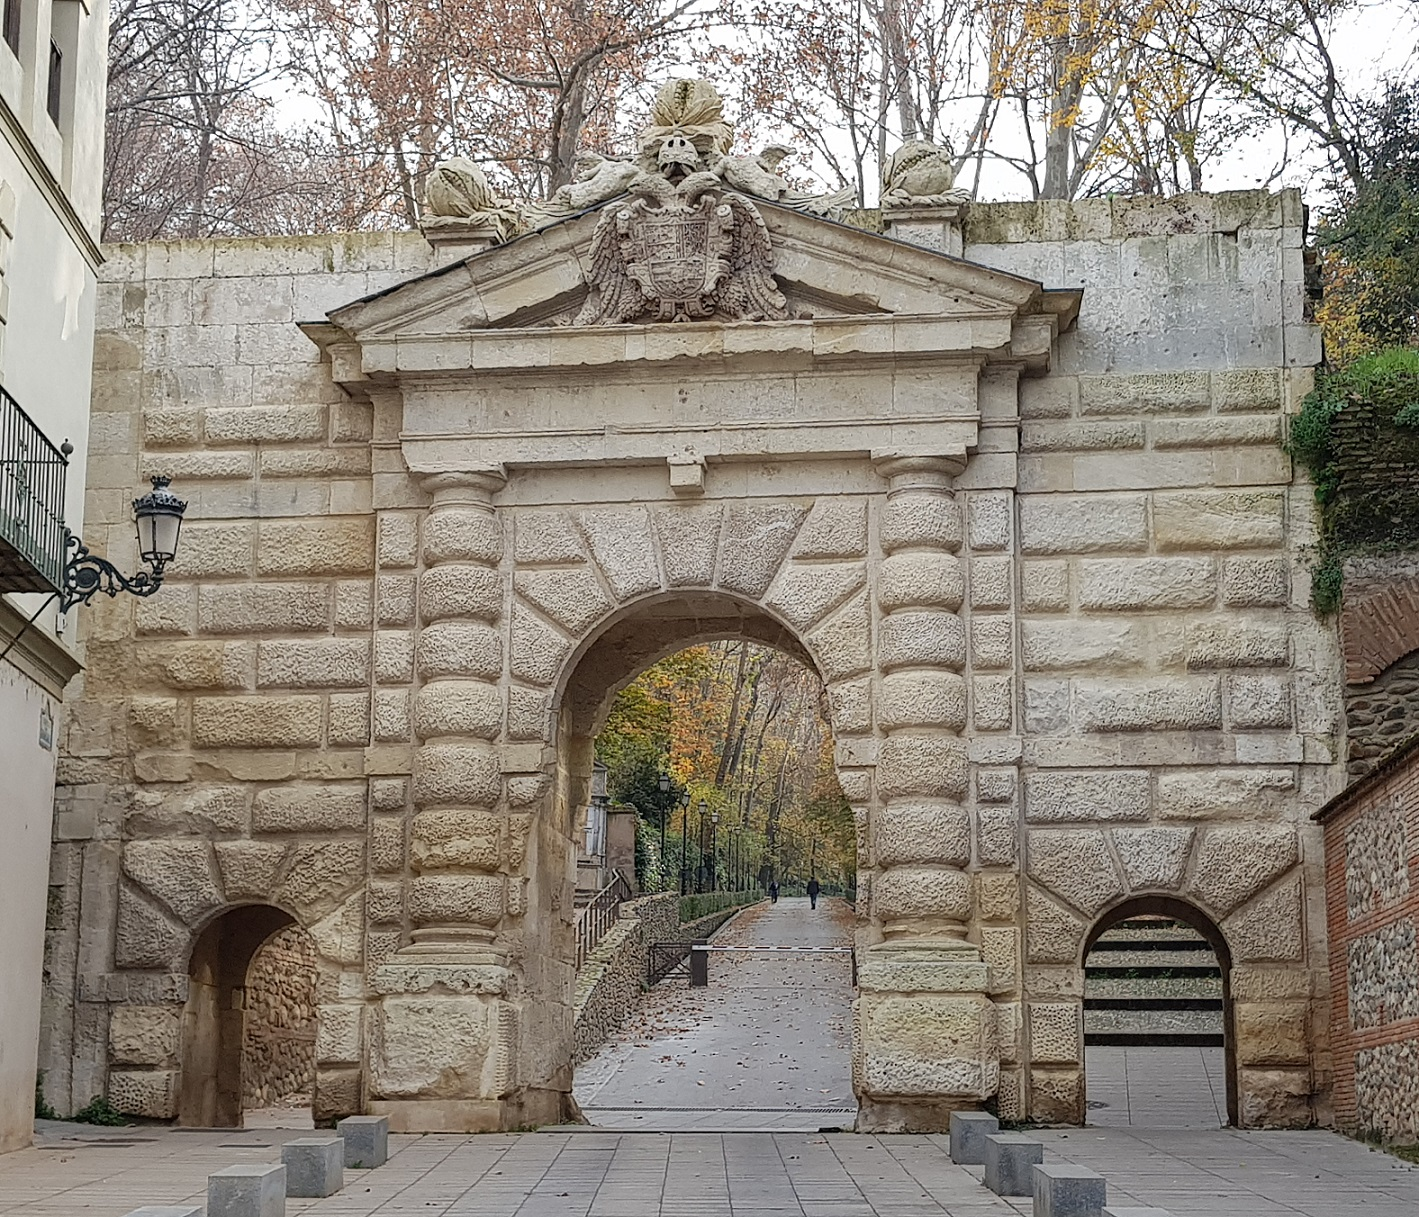arco-medio-punto: (530, 574, 849, 780), (1073, 880, 1246, 1001), (176, 888, 325, 997)
fronton: (317, 182, 1049, 382)
